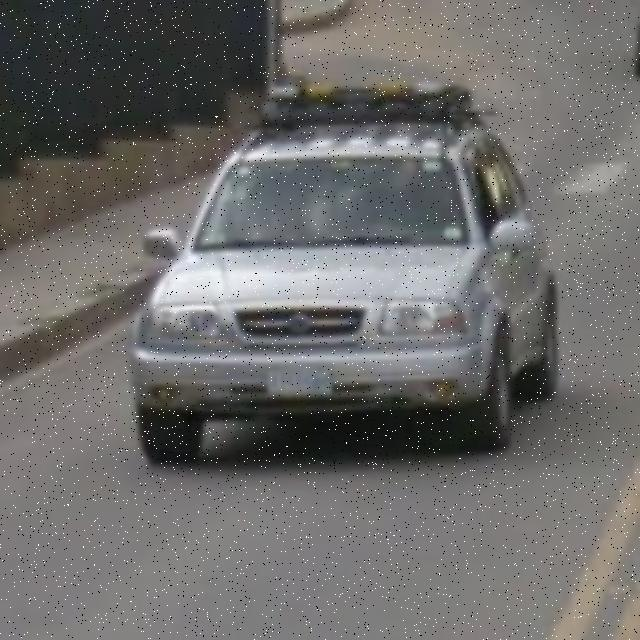cars: (151, 107, 566, 459)
